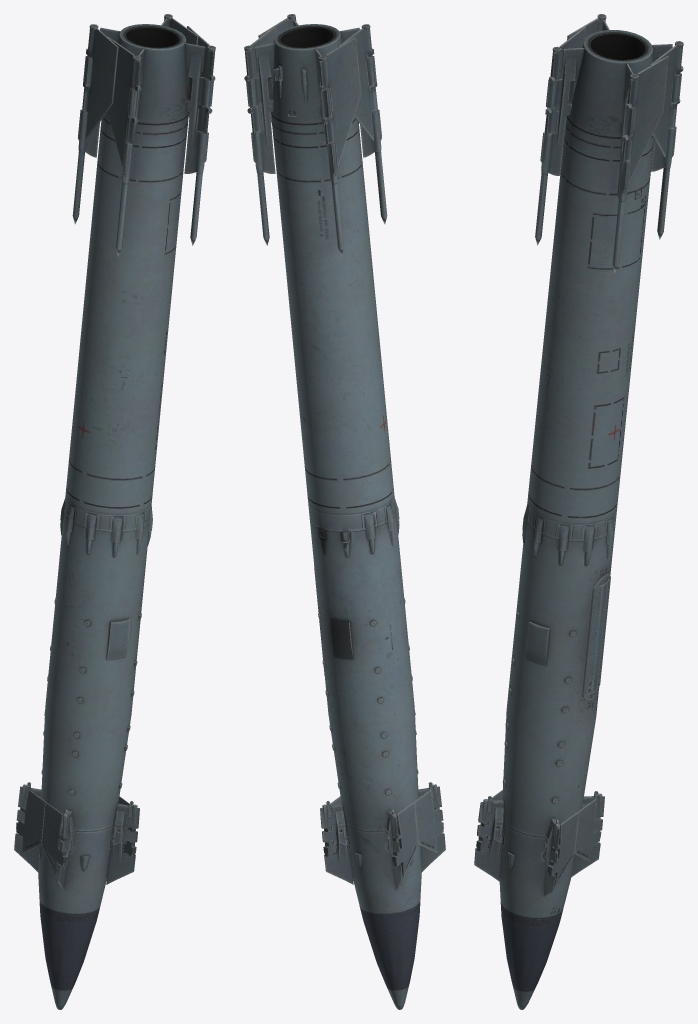
3 views of the same model, side by side, from view 1: azimuth 30°, elevation 25°; view 2: azimuth 150°, elevation 25°; view 3: azimuth 330°, elevation 25° (orthographic). The views are drawn at different scales.
Visible parts, largest first — view 1: Object_29.001; view 2: Object_29.001; view 3: Object_29.001.
Boxes of the visible parts, bbox=[...] form: Object_29.001: bbox=[14, 14, 215, 1009]; Object_29.001: bbox=[244, 14, 445, 1009]; Object_29.001: bbox=[474, 14, 683, 1009].
Size of the model in its own units: 0.5065 by 2.91 by 0.2861.
Materials: 1 (1 with a texture image).
